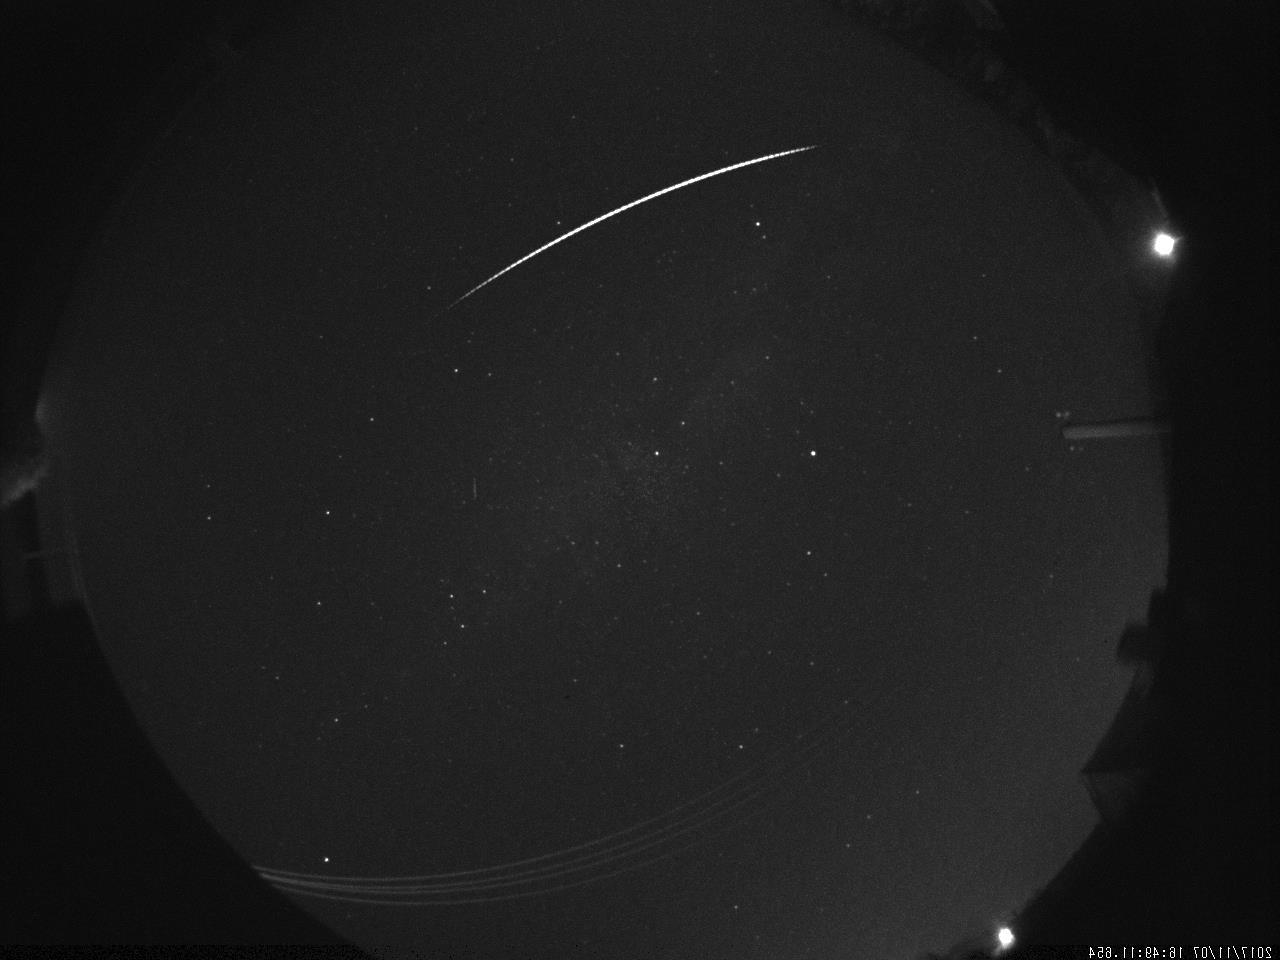meteor: (414, 128, 827, 320)
